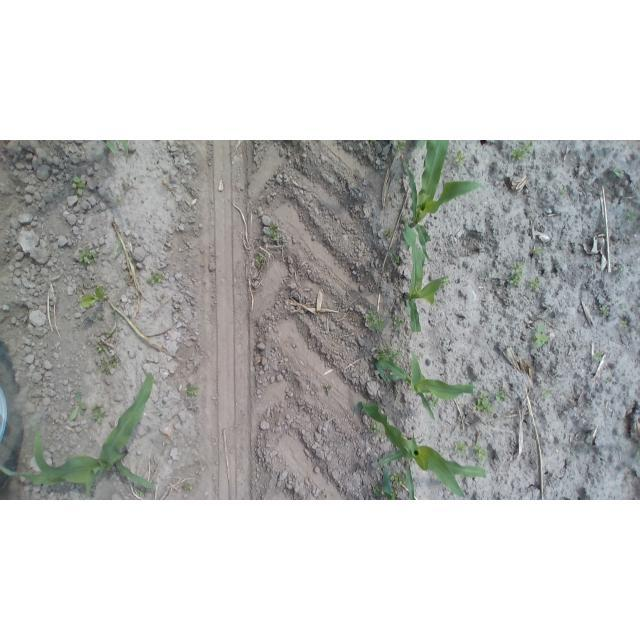Maize: (0, 370, 156, 499), (350, 397, 494, 500), (400, 141, 486, 264), (372, 348, 477, 421), (397, 217, 452, 336), (384, 466, 414, 500), (104, 140, 137, 166)
Weeds: (80, 284, 110, 308), (471, 386, 494, 415), (510, 140, 534, 162), (70, 390, 86, 423), (363, 309, 385, 333), (531, 323, 550, 349), (508, 258, 524, 288), (98, 355, 121, 375), (77, 247, 99, 266), (92, 404, 109, 427), (492, 385, 513, 403), (374, 347, 399, 361), (472, 444, 490, 462), (267, 221, 282, 242), (72, 176, 87, 197), (451, 438, 469, 455), (94, 340, 117, 353), (391, 471, 408, 487), (367, 421, 384, 436), (185, 380, 200, 397), (148, 271, 164, 286), (371, 484, 385, 498), (527, 278, 541, 292), (455, 150, 466, 167), (611, 167, 623, 182), (527, 245, 543, 256), (627, 208, 638, 223), (427, 394, 439, 407), (255, 252, 266, 266), (593, 348, 604, 362), (384, 228, 395, 241), (134, 486, 147, 497), (394, 316, 404, 330), (387, 489, 399, 500), (394, 141, 406, 152), (180, 483, 192, 494), (557, 184, 567, 196), (391, 252, 399, 267), (598, 302, 608, 314), (542, 389, 553, 399), (74, 284, 84, 293), (615, 263, 624, 273), (95, 311, 106, 319), (265, 466, 273, 475), (620, 319, 628, 327), (636, 449, 640, 462), (552, 382, 559, 389)
